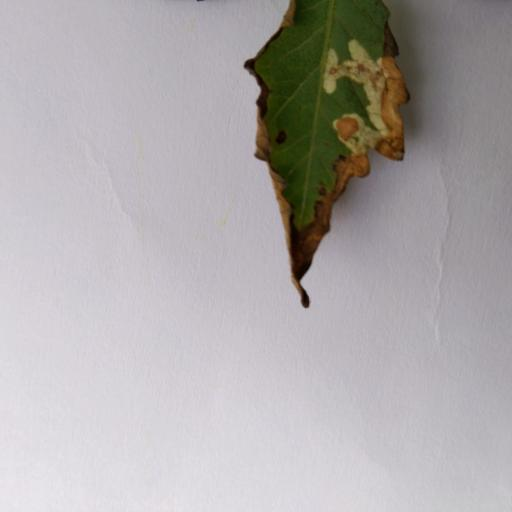disease_tomato: (243, 0, 410, 281)
